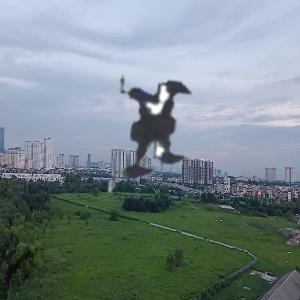drone: (48, 23, 259, 234)
